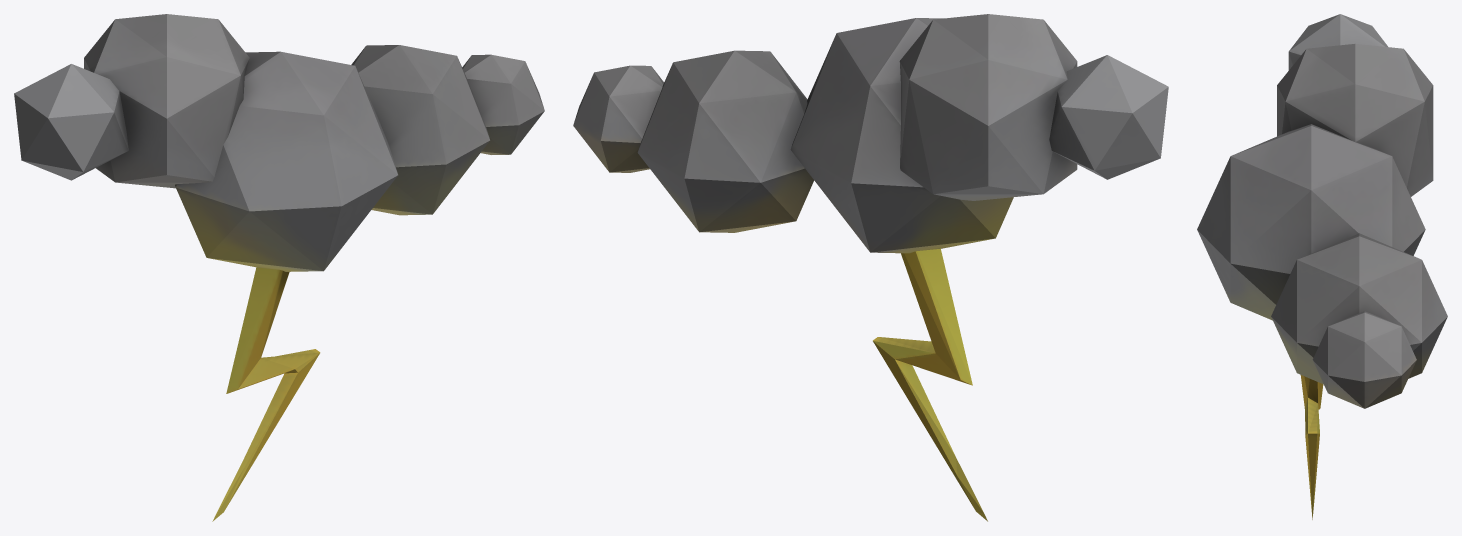
File: Cloud_6.fbx
The picture shows the model from 3 angles, left to right: view 1: azimuth 30°, elevation 25°; view 2: azimuth 150°, elevation 25°; view 3: azimuth 270°, elevation 25°; orthographic projection. The views are drawn at different scales.
Visible parts, largest first — view 1: Cloud_6; view 2: Cloud_6; view 3: Cloud_6.
Part boxes in pixels (x1,y1,x2,y2): Cloud_6: (14, 14, 544, 521); Cloud_6: (573, 14, 1168, 521); Cloud_6: (1197, 14, 1447, 519).
Size of the model in its own units: 98.94 by 88.51 by 43.04.
